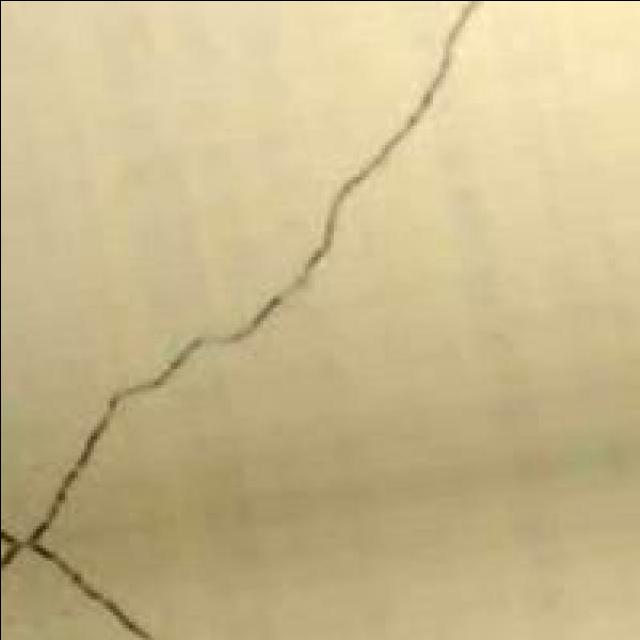SurfaceCrack: (62, 0, 518, 480), (0, 456, 166, 640)
